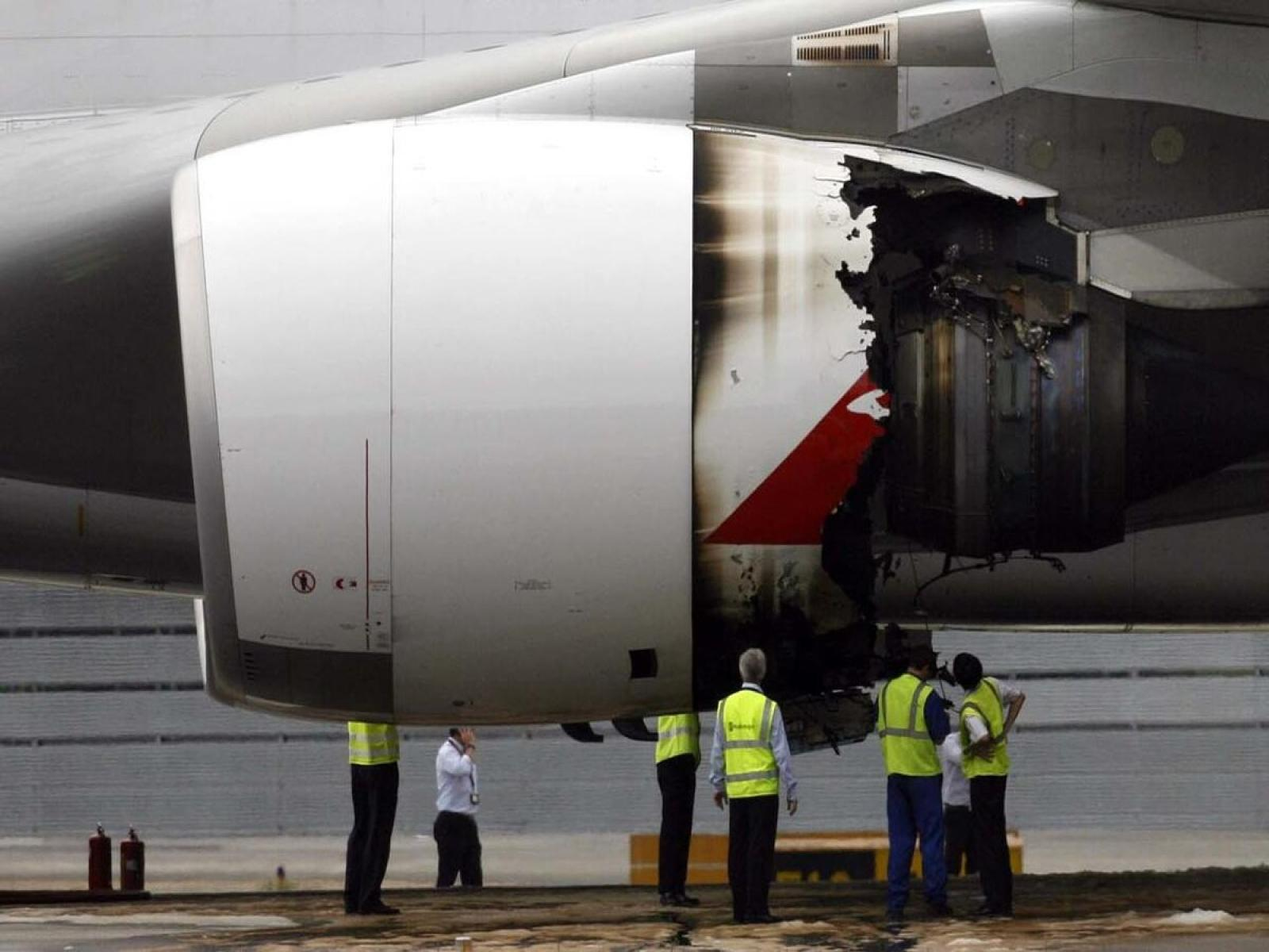Engine_damage: (689, 241, 884, 688), (835, 159, 1083, 387), (781, 686, 876, 754), (698, 147, 741, 261)
